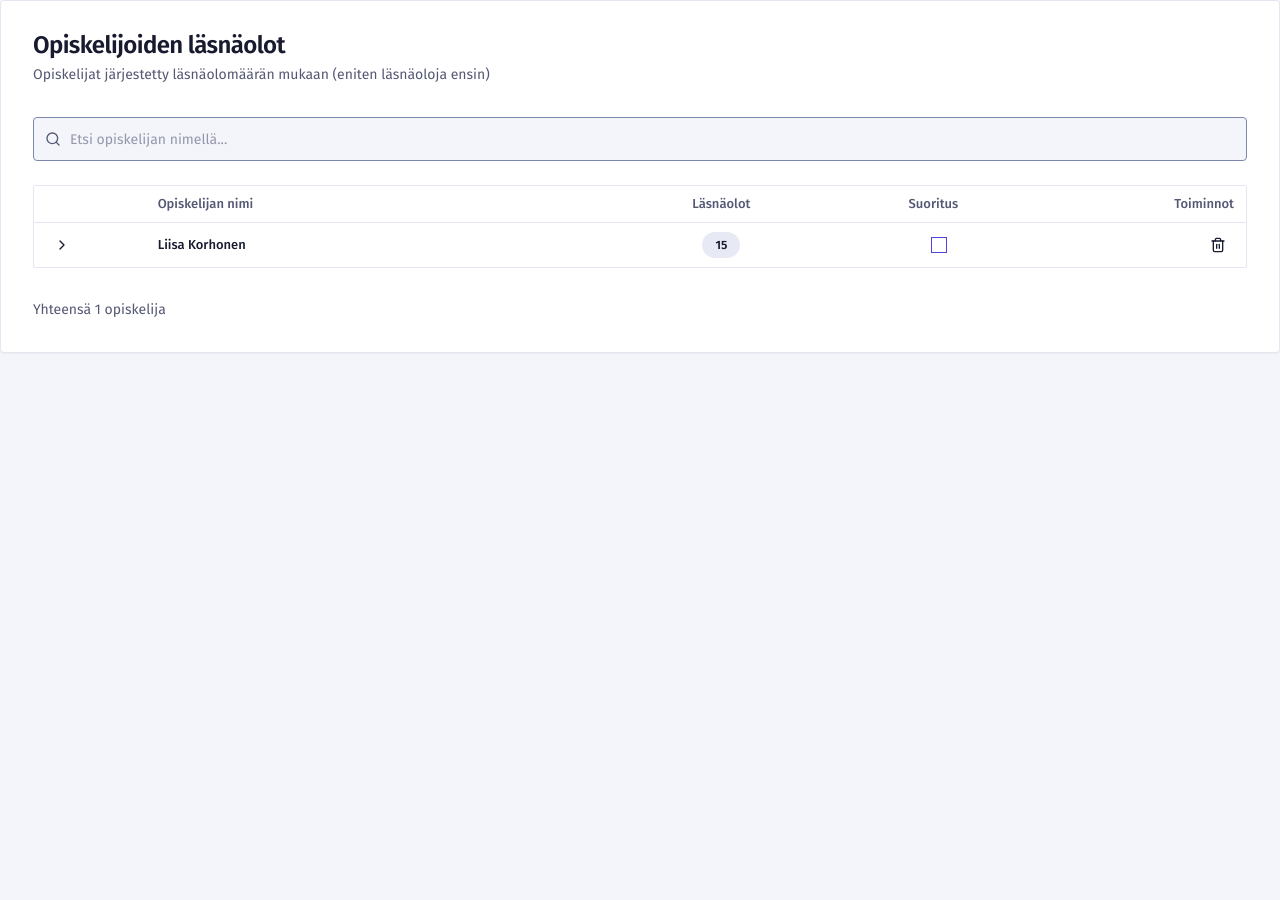
Test: StudentLogs — deleting a student asks first › deletes nothing on the first click, and asks instead
The width and height of the screenshot is (1280, 900).
Click the button named "Poista opiskelija".
click(1218, 244)  # box 1202,228 -> 1234,260
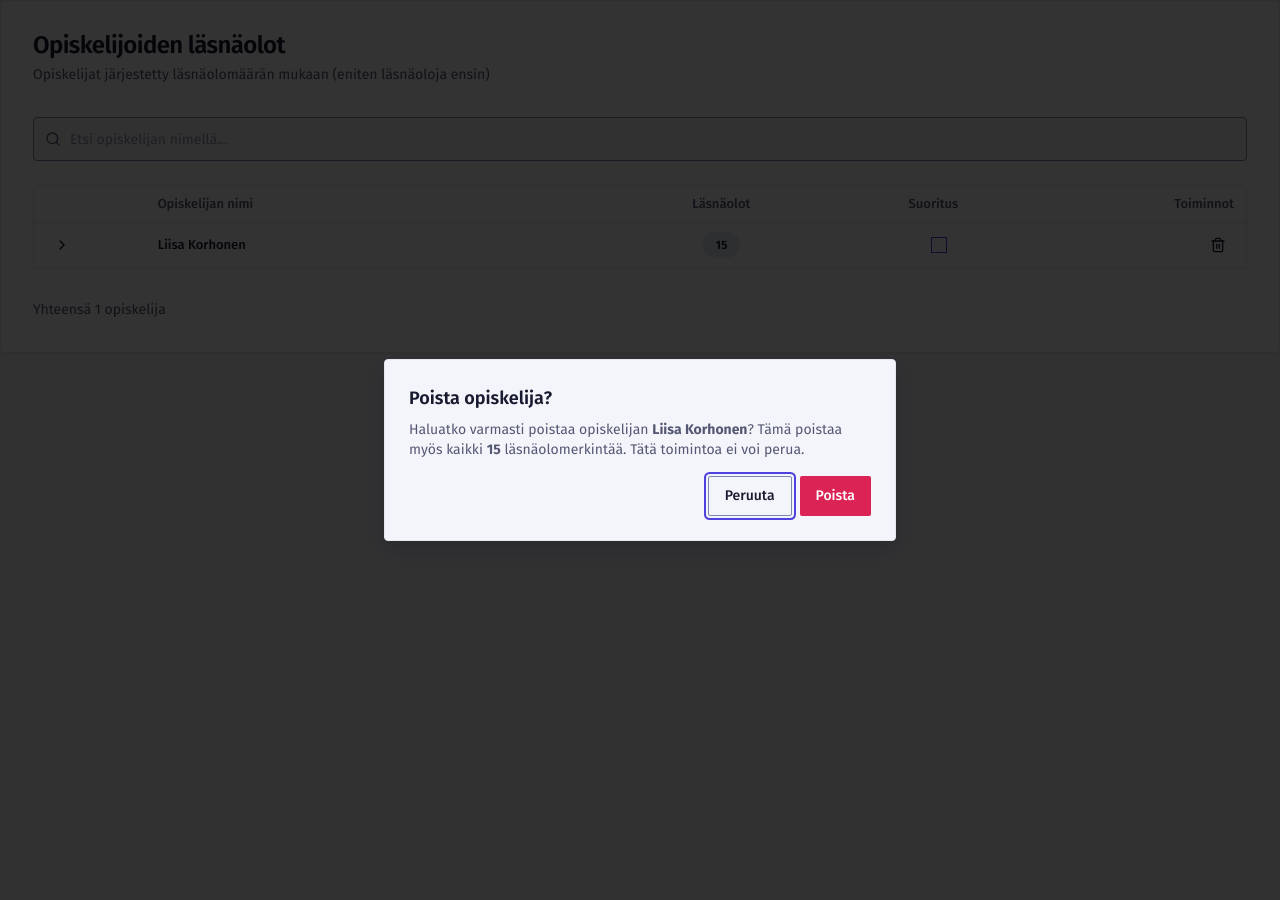
Expected: the dialog "Poista opiskelija?" is shown, 384,359 -> 896,541
